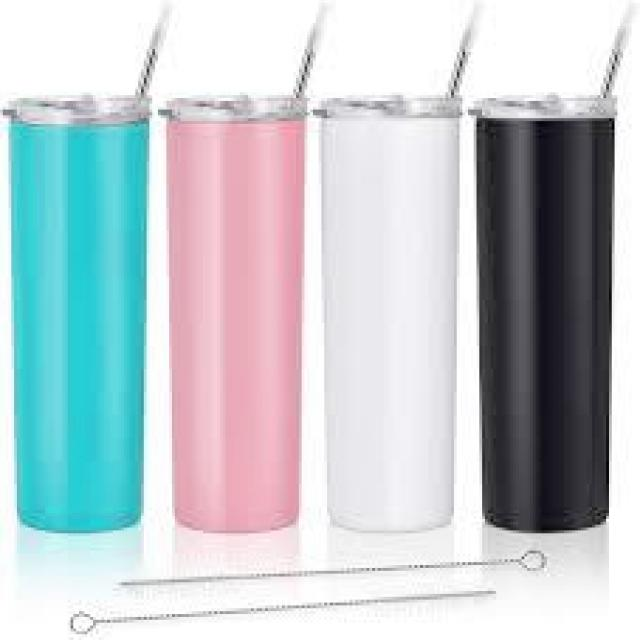bottle: (7, 6, 154, 533), (477, 9, 623, 536), (316, 4, 460, 532), (166, 9, 302, 533)
